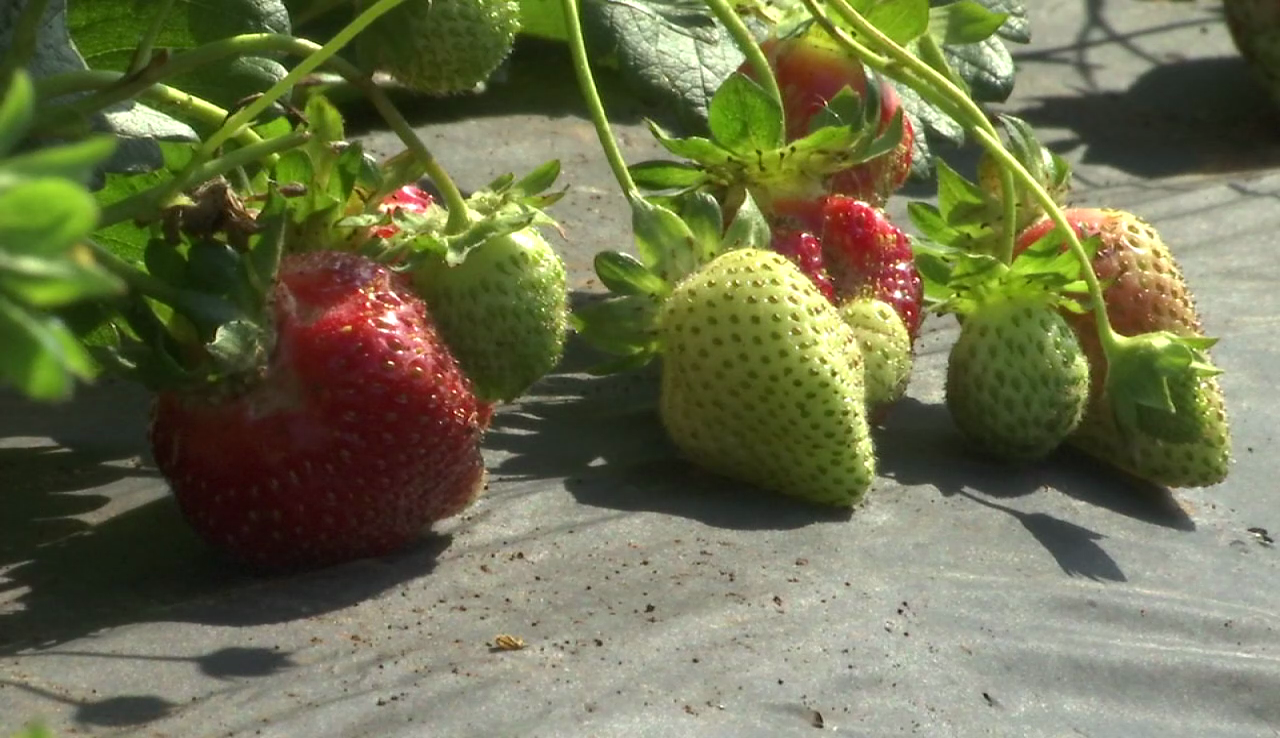ripe: (146, 240, 496, 544), (716, 31, 929, 219), (765, 192, 920, 334)
unripe: (657, 233, 878, 519), (372, 188, 580, 405), (1009, 201, 1230, 381), (942, 289, 1093, 467), (1100, 330, 1239, 498), (816, 297, 919, 408)
